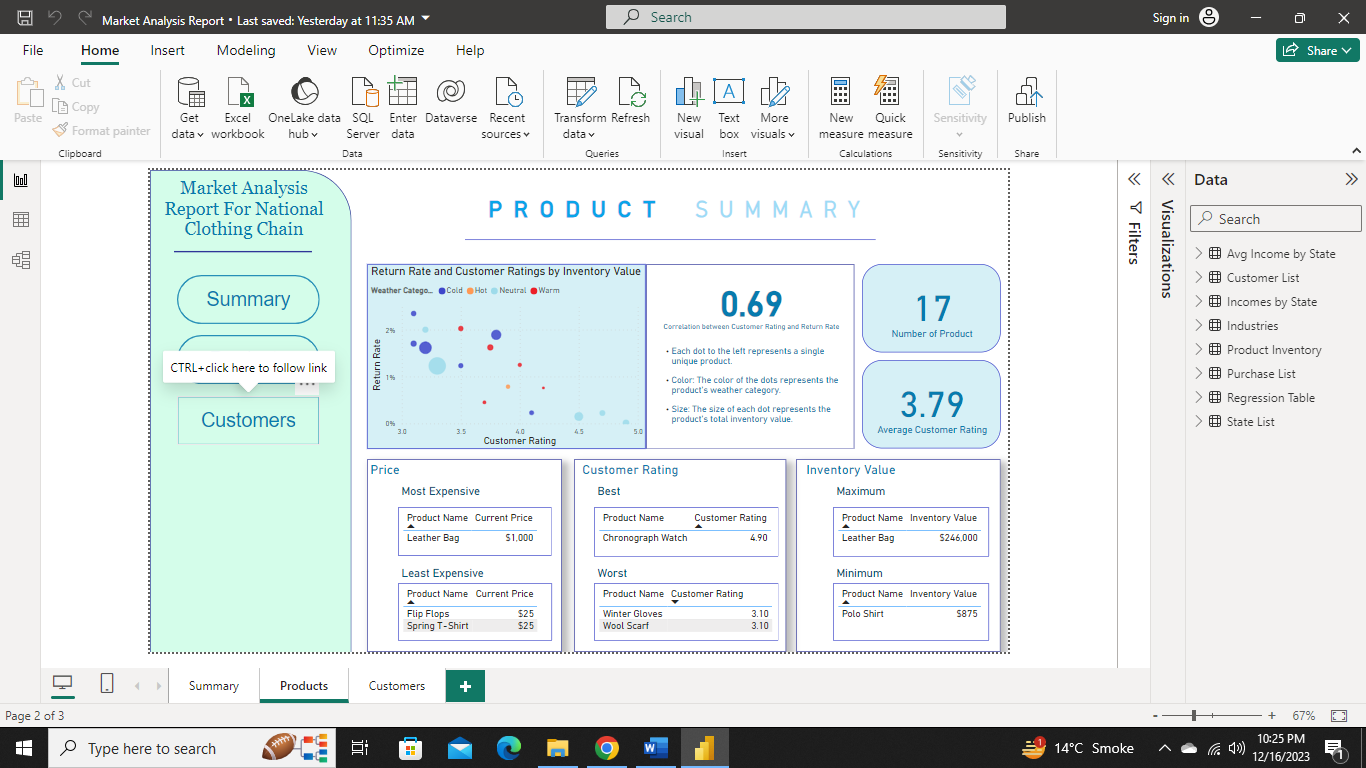

What the dashboard file says about the page in this screenshot:
{"tool":"powerbi","page":{"name":"Products","canvas":[1280,720],"ordinal":1},"visuals":[{"type":"textbox","box":[499.7,34.6,576,59],"z":0},{"type":"shape","box":[469.4,85,613.4,37.4],"z":1000},{"type":"shape","box":[0,0,300.7,720.6],"z":2000},{"type":"textbox","box":[13,7.2,253.4,126.7],"z":3000},{"type":"shape","box":[36,66.2,205.9,112.3],"z":4000},{"type":"actionButton","box":[40.3,157,213.1,73.4],"z":5000},{"type":"actionButton","box":[40.3,246.2,213.1,73.4],"z":6000},{"type":"actionButton","box":[40.3,336.8,213.1,73.4],"z":7000},{"type":"scatterChart","title":"Return Rate and Customer Ratings by Inventory Value","fields":{"X":["Product Inventory.Customer Rating"],"Y":["Product Inventory.Return Rate"],"Series":["Product Inventory.Weather Category"],"Size":["Sum(Product Inventory.Total Inventory Value)"]},"box":[324,139.7,416.2,276.5],"z":8000},{"type":"shape","box":[740.2,139.7,311,276.5],"z":9000},{"type":"card","fields":{"Values":["Product Inventory.Correlation between Customer Rating and Return Rate"]},"box":[754.6,152.6,285.1,93.6],"z":10000},{"type":"textbox","box":[754.6,257.8,285.1,138.2],"z":11000},{"type":"card","title":"Total Number of Products","fields":{"Values":["Count(Product Inventory.Product)"]},"box":[1062.7,139.7,207.4,132.5],"z":12000},{"type":"card","title":"Total Number of Products","fields":{"Values":["Avg(Product Inventory.Customer Rating)"]},"box":[1062.7,283.7,207.4,132.5],"z":13000},{"type":"tableEx","fields":{"Values":["Product Inventory.Product Name","Product Inventory.Current Price"]},"box":[370.1,502.6,229,73.4],"z":14000},{"type":"shape","box":[324,432,290.9,288],"z":15000},{"type":"textbox","box":[324,432,90.7,43.2],"z":16000},{"type":"textbox","box":[370.1,463.7,146.9,37.4],"z":17000},{"type":"textbox","box":[370.1,586.1,146.9,30.2],"z":18000},{"type":"tableEx","fields":{"Values":["Product Inventory.Product Name","Product Inventory.Current Price"]},"box":[369.6,616.5,230.1,85.7],"z":19000},{"type":"tableEx","fields":{"Values":["Product Inventory.Product Name","Product Inventory.Customer Rating"]},"box":[663.3,502.5,275.5,73.9],"z":20000},{"type":"shape","box":[632.2,432,316.8,288],"z":21000},{"type":"textbox","box":[640,431.7,310.8,43.7],"z":22000},{"type":"textbox","box":[663.3,463.9,184.8,37],"z":23000},{"type":"textbox","box":[663.3,586.5,184.8,30.2],"z":24000},{"type":"tableEx","fields":{"Values":["Product Inventory.Product Name","Product Inventory.Customer Rating"]},"box":[663.3,616.7,275.5,85.7],"z":25000},{"type":"tableEx","fields":{"Values":["Product Inventory.Product Name","Product Inventory.Total Inventory Value"]},"box":[1019.6,502.3,233.5,73.9],"z":26000},{"type":"shape","box":[964.8,432,305.3,288],"z":27000},{"type":"textbox","box":[974.3,431.7,275.5,31.9],"z":28000},{"type":"textbox","box":[1019.5,463.5,147.8,37],"z":29000},{"type":"textbox","box":[1019.6,586.2,147.8,30.2],"z":30000},{"type":"tableEx","fields":{"Values":["Product Inventory.Product Name","Product Inventory.Total Inventory Value"]},"box":[1019.6,616.5,233.5,85.7],"z":31000}]}

Visuals, with their boxes on the page's 1280x720 design canvas (x1, y1, x2, y2). These are canvas units, not pixel positions in the 1366x768 screenshot, which may show the page scaled, cropped or inside an application window:
textbox: 500:35:1076:94
shape: 469:85:1083:122
shape: 0:0:301:721
textbox: 13:7:266:134
shape: 36:66:242:178
actionButton: 40:157:253:230
actionButton: 40:246:253:320
actionButton: 40:337:253:410
"Return Rate and Customer Ratings by Inventory Value" scatterChart: 324:140:740:416
shape: 740:140:1051:416
card - Product Inventory.Correlation between Customer Rating and Return Rate: 755:153:1040:246
textbox: 755:258:1040:396
"Total Number of Products" card: 1063:140:1270:272
"Total Number of Products" card: 1063:284:1270:416
tableEx - Product Inventory.Product Name x Product Inventory.Current Price: 370:503:599:576
shape: 324:432:615:720
textbox: 324:432:415:475
textbox: 370:464:517:501
textbox: 370:586:517:616
tableEx - Product Inventory.Product Name x Product Inventory.Current Price: 370:616:600:702
tableEx - Product Inventory.Product Name x Product Inventory.Customer Rating: 663:502:939:576
shape: 632:432:949:720
textbox: 640:432:951:475
textbox: 663:464:848:501
textbox: 663:586:848:617
tableEx - Product Inventory.Product Name x Product Inventory.Customer Rating: 663:617:939:702
tableEx - Product Inventory.Product Name x Product Inventory.Total Inventory Value: 1020:502:1253:576
shape: 965:432:1270:720
textbox: 974:432:1250:464
textbox: 1020:464:1167:500
textbox: 1020:586:1167:616
tableEx - Product Inventory.Product Name x Product Inventory.Total Inventory Value: 1020:616:1253:702
